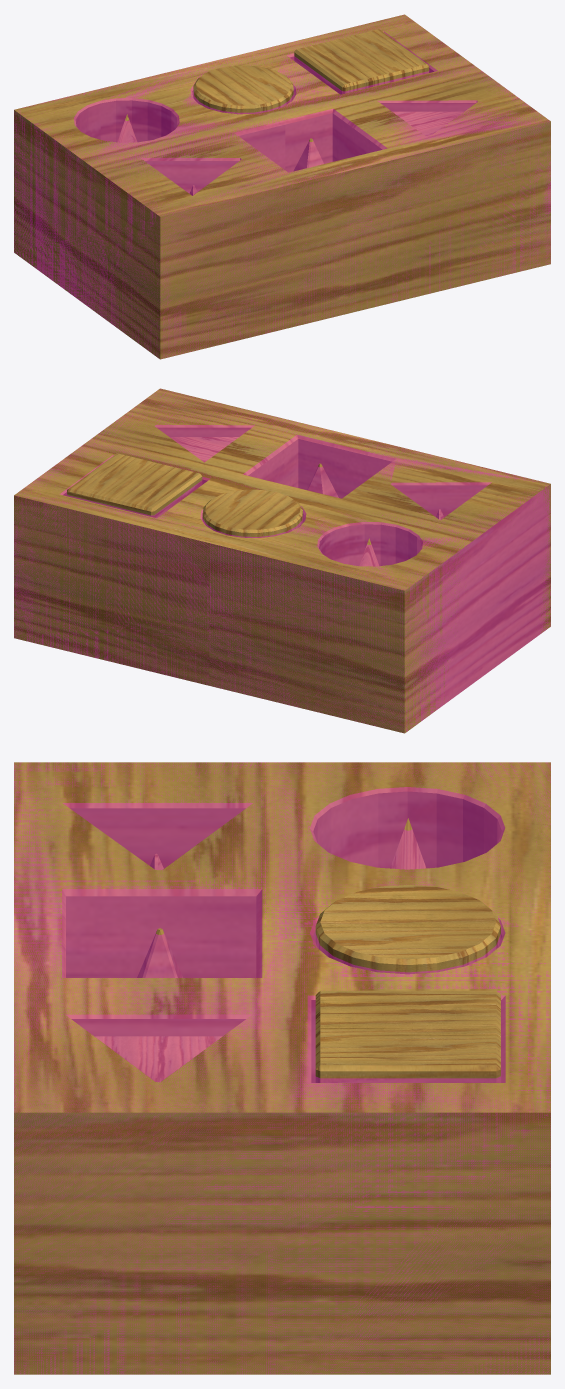
File: tsumiki_case_full.fbx
3 renders of one model, top to bottom at view 1: azimuth 30°, elevation 25°; view 2: azimuth 150°, elevation 25°; view 3: azimuth 270°, elevation 25°, orthographic. The views are drawn at different scales.
Visible parts, largest first — view 1: tsumiki_case, tsumiki_case_boundingBox, tumiki_C, tumiki_A, tumiki_F, tumiki_D; view 2: tsumiki_case, tsumiki_case_boundingBox, tumiki_C, tumiki_A, tumiki_F, tumiki_D; view 3: tsumiki_case, tsumiki_case_boundingBox, tumiki_C, tumiki_A, tumiki_F, tumiki_D, tumiki_B.
Boxes of the visible parts, x1=… form: tsumiki_case: x1=14, y1=14, x2=550, y2=359; tsumiki_case_boundingBox: x1=14, y1=16, x2=550, y2=357; tumiki_C: x1=294, y1=29, x2=429, y2=94; tumiki_A: x1=193, y1=65, x2=293, y2=114; tumiki_F: x1=392, y1=111, x2=463, y2=137; tumiki_D: x1=293, y1=138, x2=323, y2=171; tsumiki_case: x1=14, y1=388, x2=550, y2=733; tsumiki_case_boundingBox: x1=14, y1=389, x2=550, y2=730; tumiki_C: x1=67, y1=453, x2=202, y2=517; tumiki_A: x1=202, y1=489, x2=302, y2=537; tumiki_F: x1=170, y1=437, x2=238, y2=462; tumiki_D: x1=307, y1=463, x2=338, y2=497; tsumiki_case: x1=14, y1=762, x2=550, y2=1374; tsumiki_case_boundingBox: x1=14, y1=762, x2=550, y2=1374; tumiki_C: x1=315, y1=990, x2=500, y2=1082; tumiki_A: x1=315, y1=885, x2=500, y2=974; tumiki_F: x1=95, y1=1036, x2=222, y2=1081; tumiki_D: x1=137, y1=928, x2=182, y2=977; tumiki_B: x1=390, y1=818, x2=425, y2=869.
Bounding box in the file's own units: 0.1163 × 0.0423 × 0.0754.
8 materials, 7 textured.
